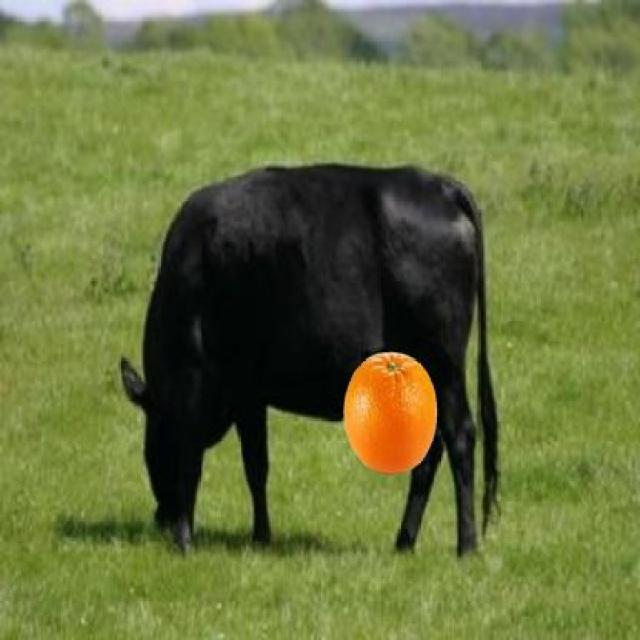Orange: (340, 349, 438, 474)
